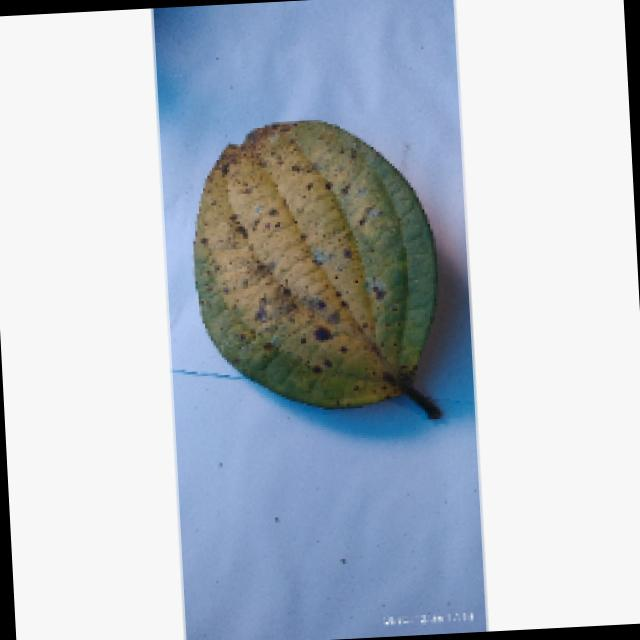slow-decline: (182, 110, 444, 420)
